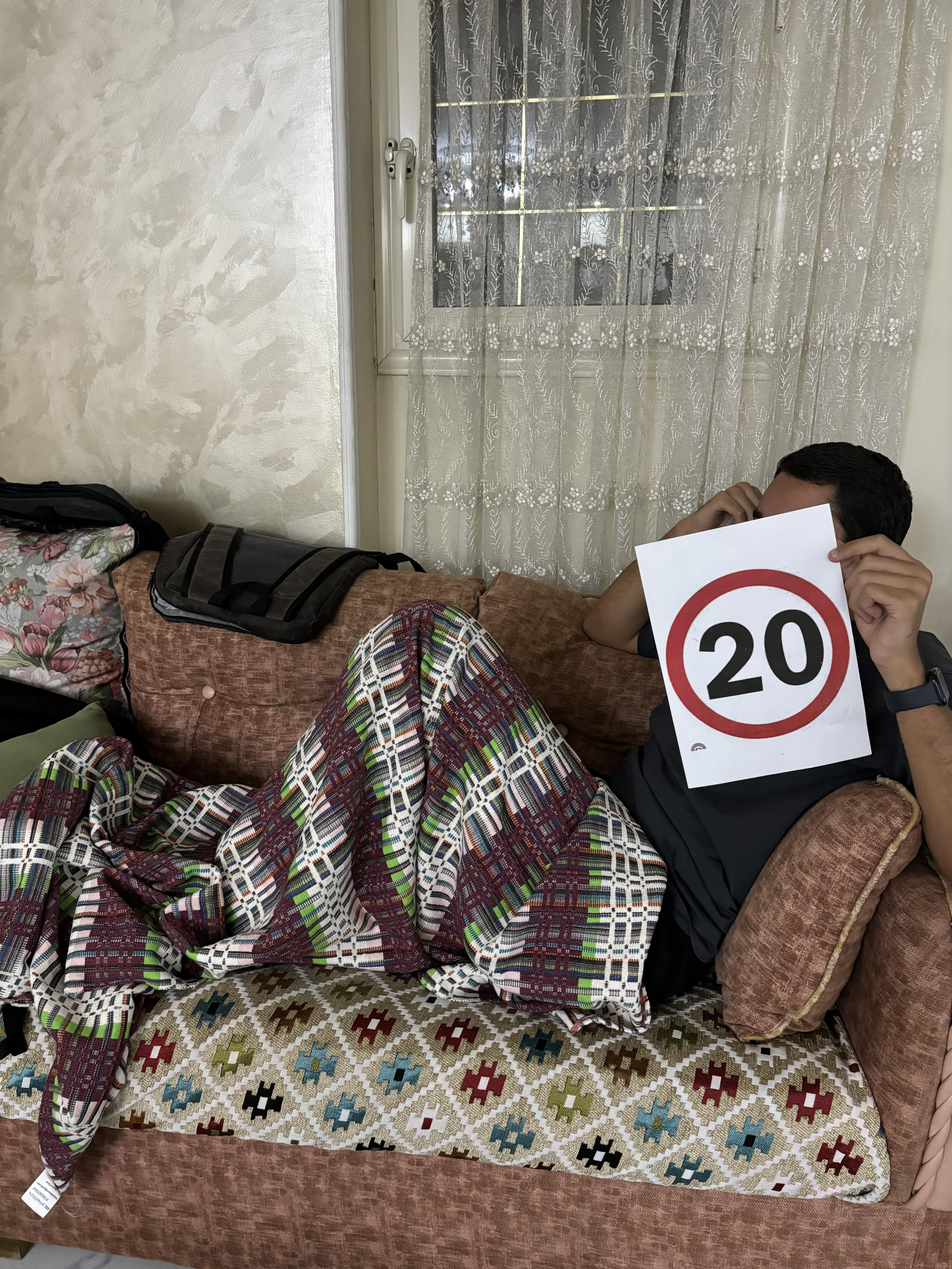20-Speed: (663, 569, 854, 725)
